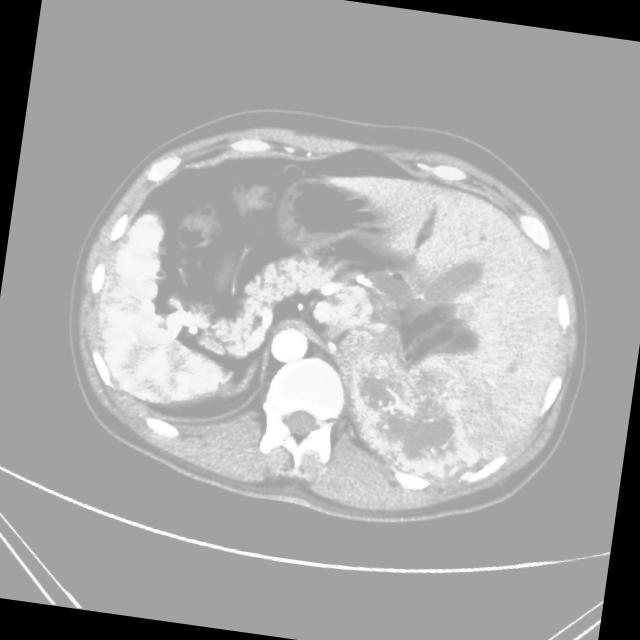TUMOR: (30, 96, 483, 454)
